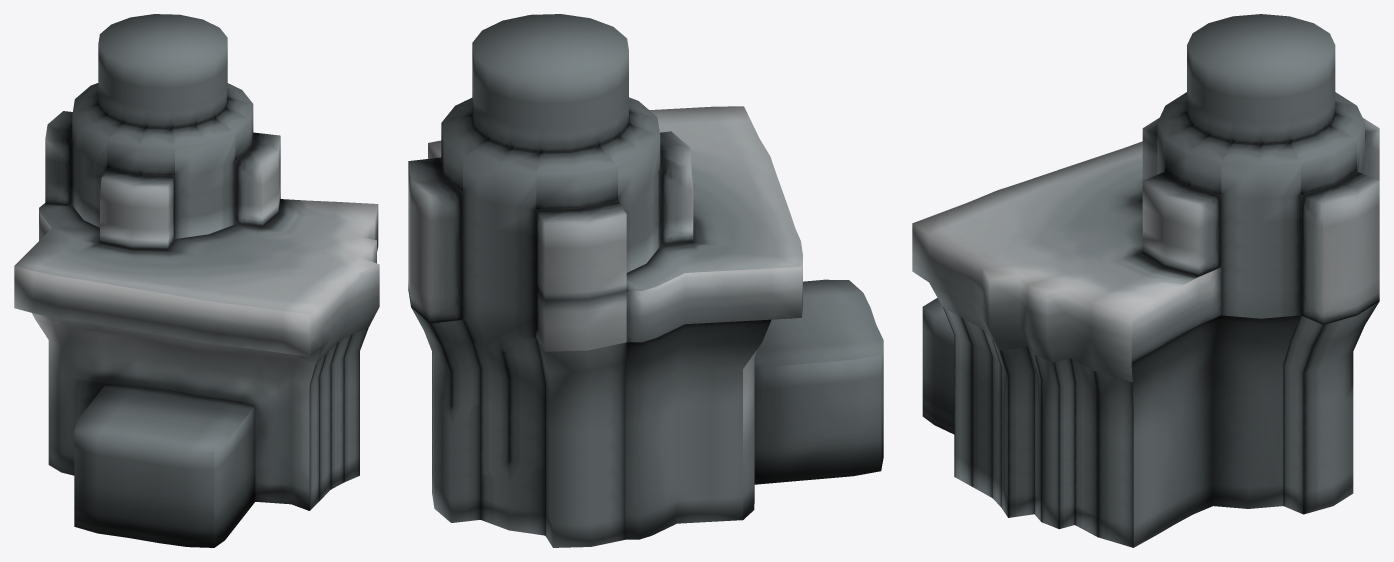
Rendered from citadel_keep.DAE.
The picture shows the model from 3 angles, left to right: view 1: azimuth 30°, elevation 25°; view 2: azimuth 150°, elevation 25°; view 3: azimuth 270°, elevation 25°; orthographic projection. The views are drawn at different scales.
Parts seen in each view (by area): view 1: keep; view 2: keep; view 3: keep.
Part boxes in pixels (x1,y1,x2,y2): keep: [14, 14, 379, 547]; keep: [408, 14, 883, 547]; keep: [912, 14, 1379, 547].
Bounding box in the file's own units: 292 × 307 × 306.
